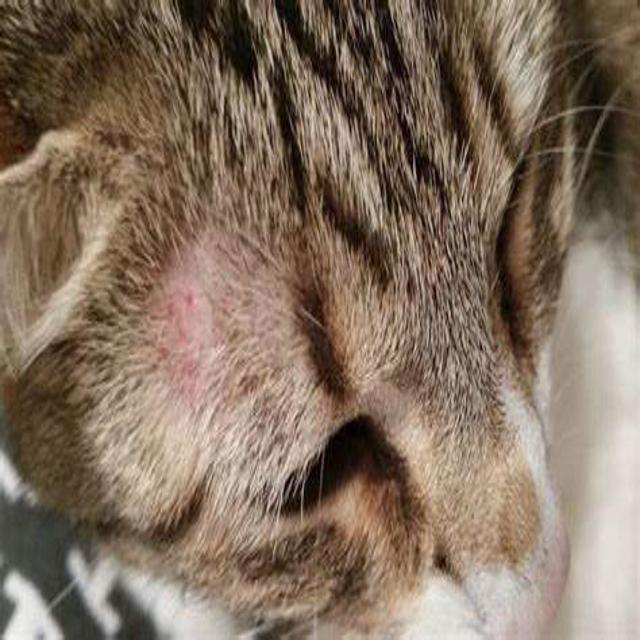ringworm: (153, 235, 265, 439)
